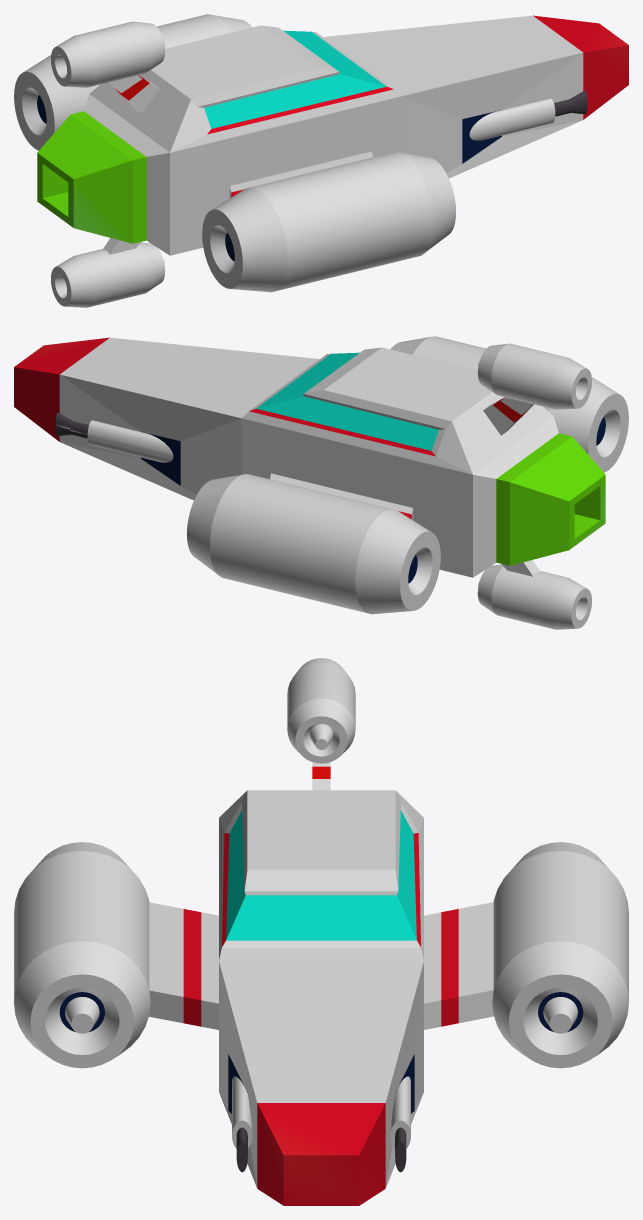
File: RealShip.fbx
The picture shows the model from 3 angles, top to bottom: view 1: azimuth 30°, elevation 25°; view 2: azimuth 150°, elevation 25°; view 3: azimuth 270°, elevation 25°; orthographic projection. The views are drawn at different scales.
Visible parts, largest first — view 1: Ship; view 2: Ship; view 3: Ship.
Part boxes in pixels (x1,y1,x2,y2): Ship: [14, 14, 628, 307]; Ship: [14, 336, 628, 629]; Ship: [14, 658, 628, 1205].
Size of the model in its own units: 1200 by 552 by 900.
